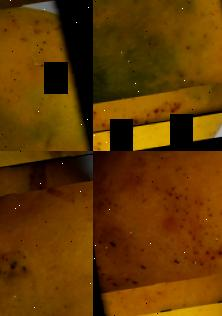PartiallyRipe: (93, 0, 222, 137), (0, 0, 93, 151)
Ripe: (93, 151, 222, 316), (0, 151, 93, 316)
